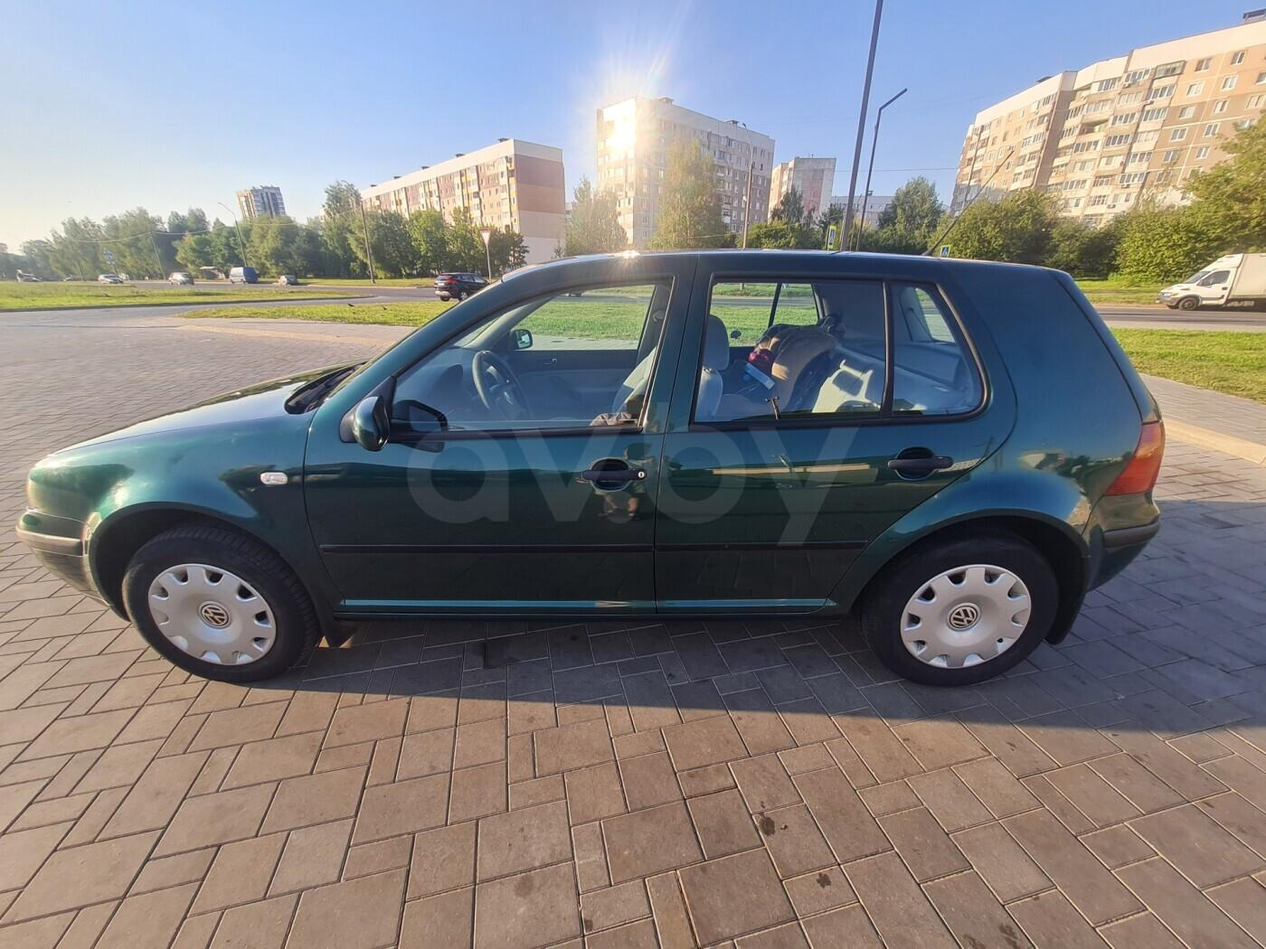Golf_1997-2006: (18, 246, 1160, 705)
